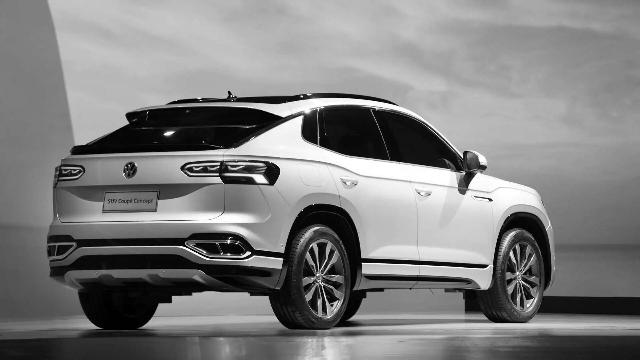suv: (32, 72, 576, 336)
